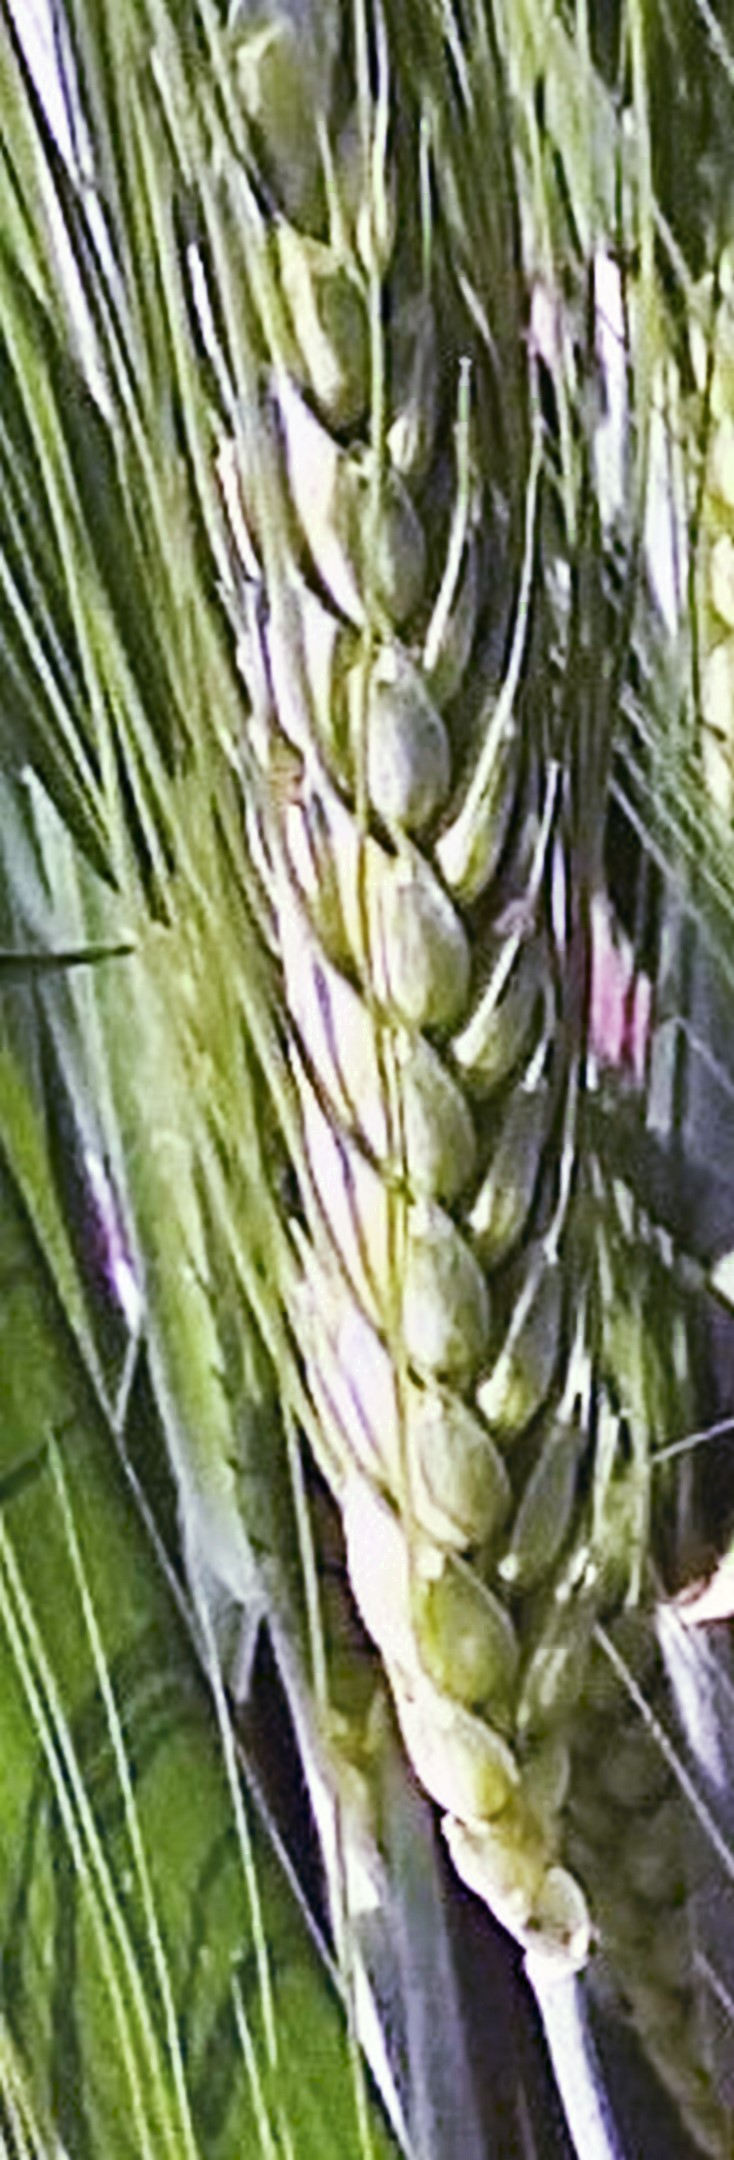Healthy Wheat: (154, 67, 702, 1854)
